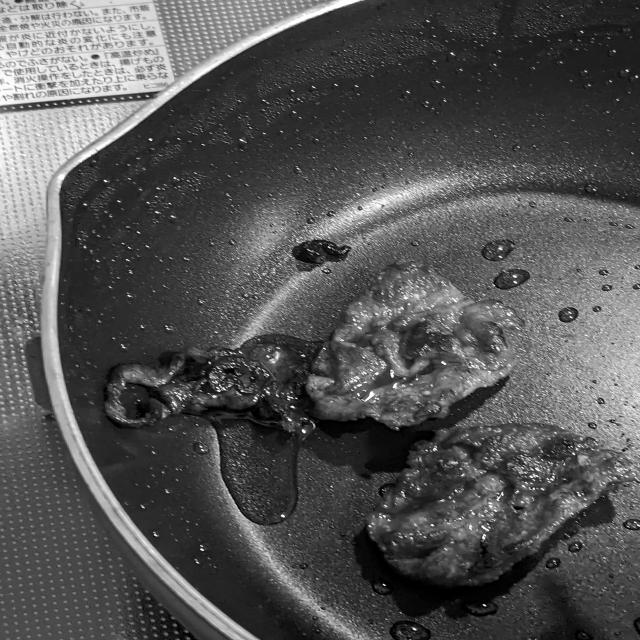overcooked pork: (98, 251, 533, 440), (358, 416, 640, 597)
